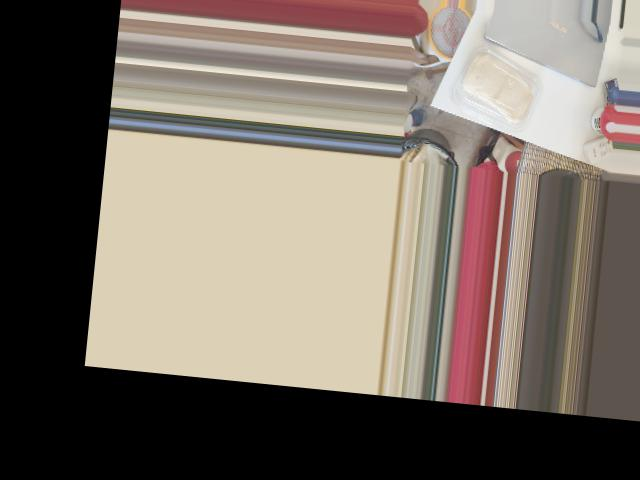cheese: (440, 41, 549, 135)
